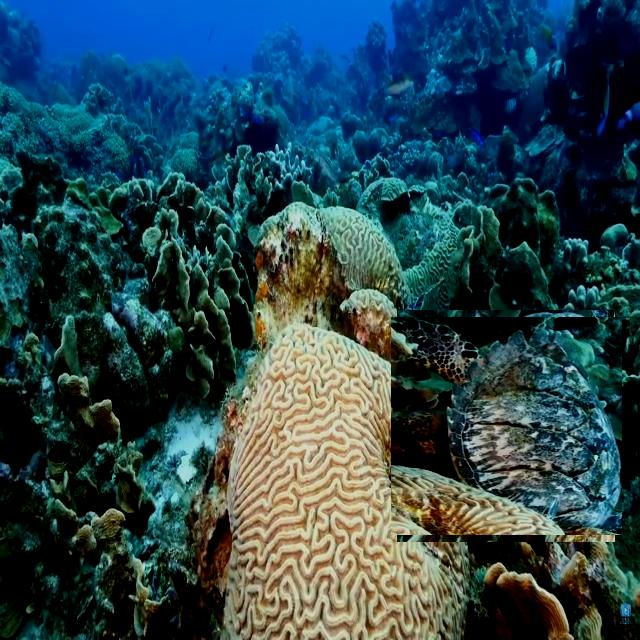Sea turtle: (394, 313, 618, 539)
